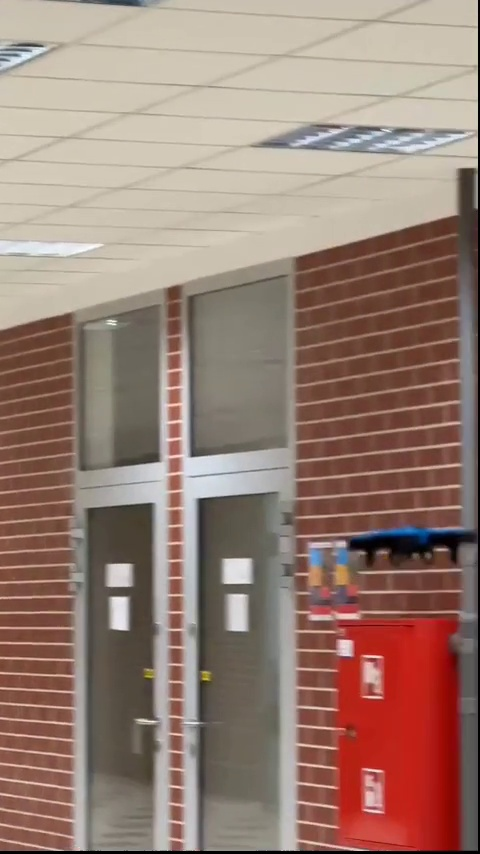drone: (345, 522, 479, 567)
